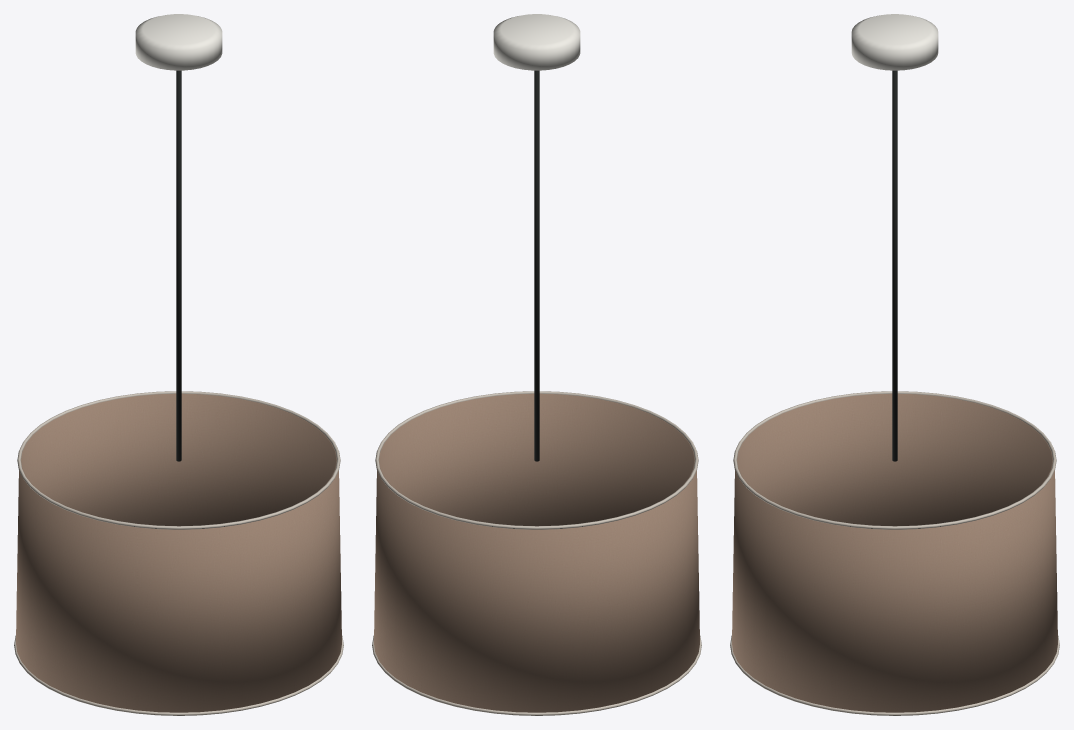
File: modern.pendant.gltf
The picture shows the model from 3 angles, left to right: view 1: azimuth 30°, elevation 25°; view 2: azimuth 150°, elevation 25°; view 3: azimuth 270°, elevation 25°; orthographic projection.
Visible parts, largest first — view 1: modern.pendant.ceiling-rose; view 2: modern.pendant.ceiling-rose; view 3: modern.pendant.ceiling-rose.
Part boxes in pixels (bbox=[...]): modern.pendant.ceiling-rose: bbox=[14, 14, 343, 715]; modern.pendant.ceiling-rose: bbox=[372, 14, 701, 715]; modern.pendant.ceiling-rose: bbox=[730, 14, 1059, 715].
Bounding box in the file's own units: 0.364 × 0.7517 × 0.364.
5 materials, 1 textured.
